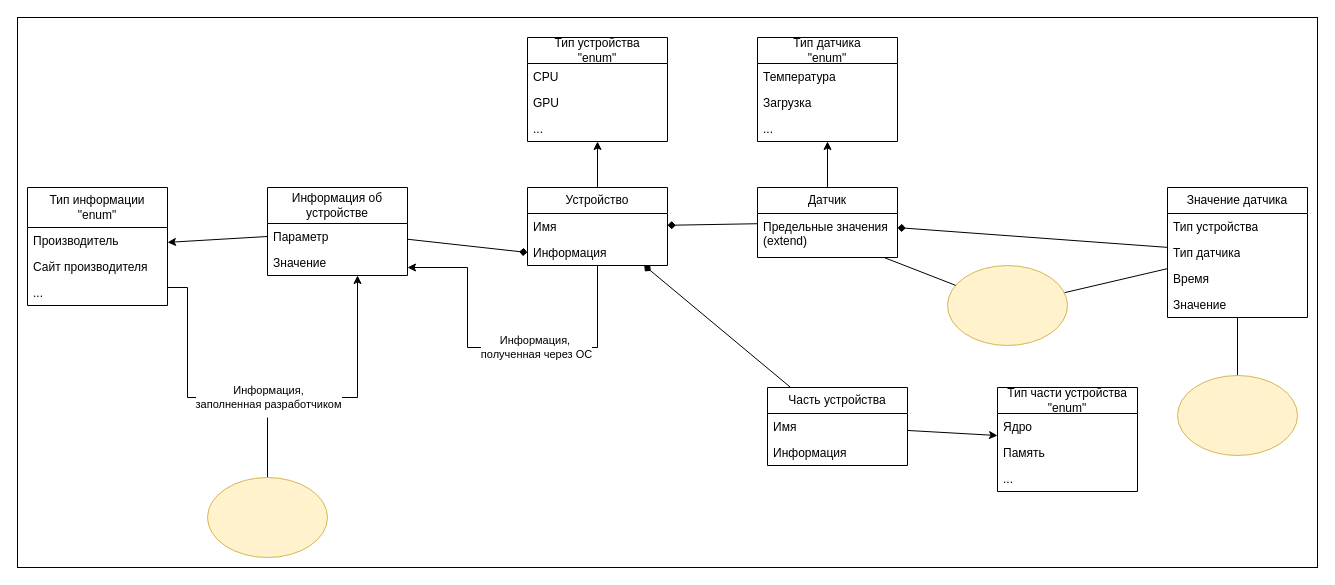
This 1335x585 diagram has some shape labels left out. Each missing label, with the centre of its shape:
"Заполнить информация об устройствах" goes at pixel 267 517.
"Найти отклонение (extend)" goes at pixel 1007 305.
"Построить графики" goes at pixel 1237 415.
